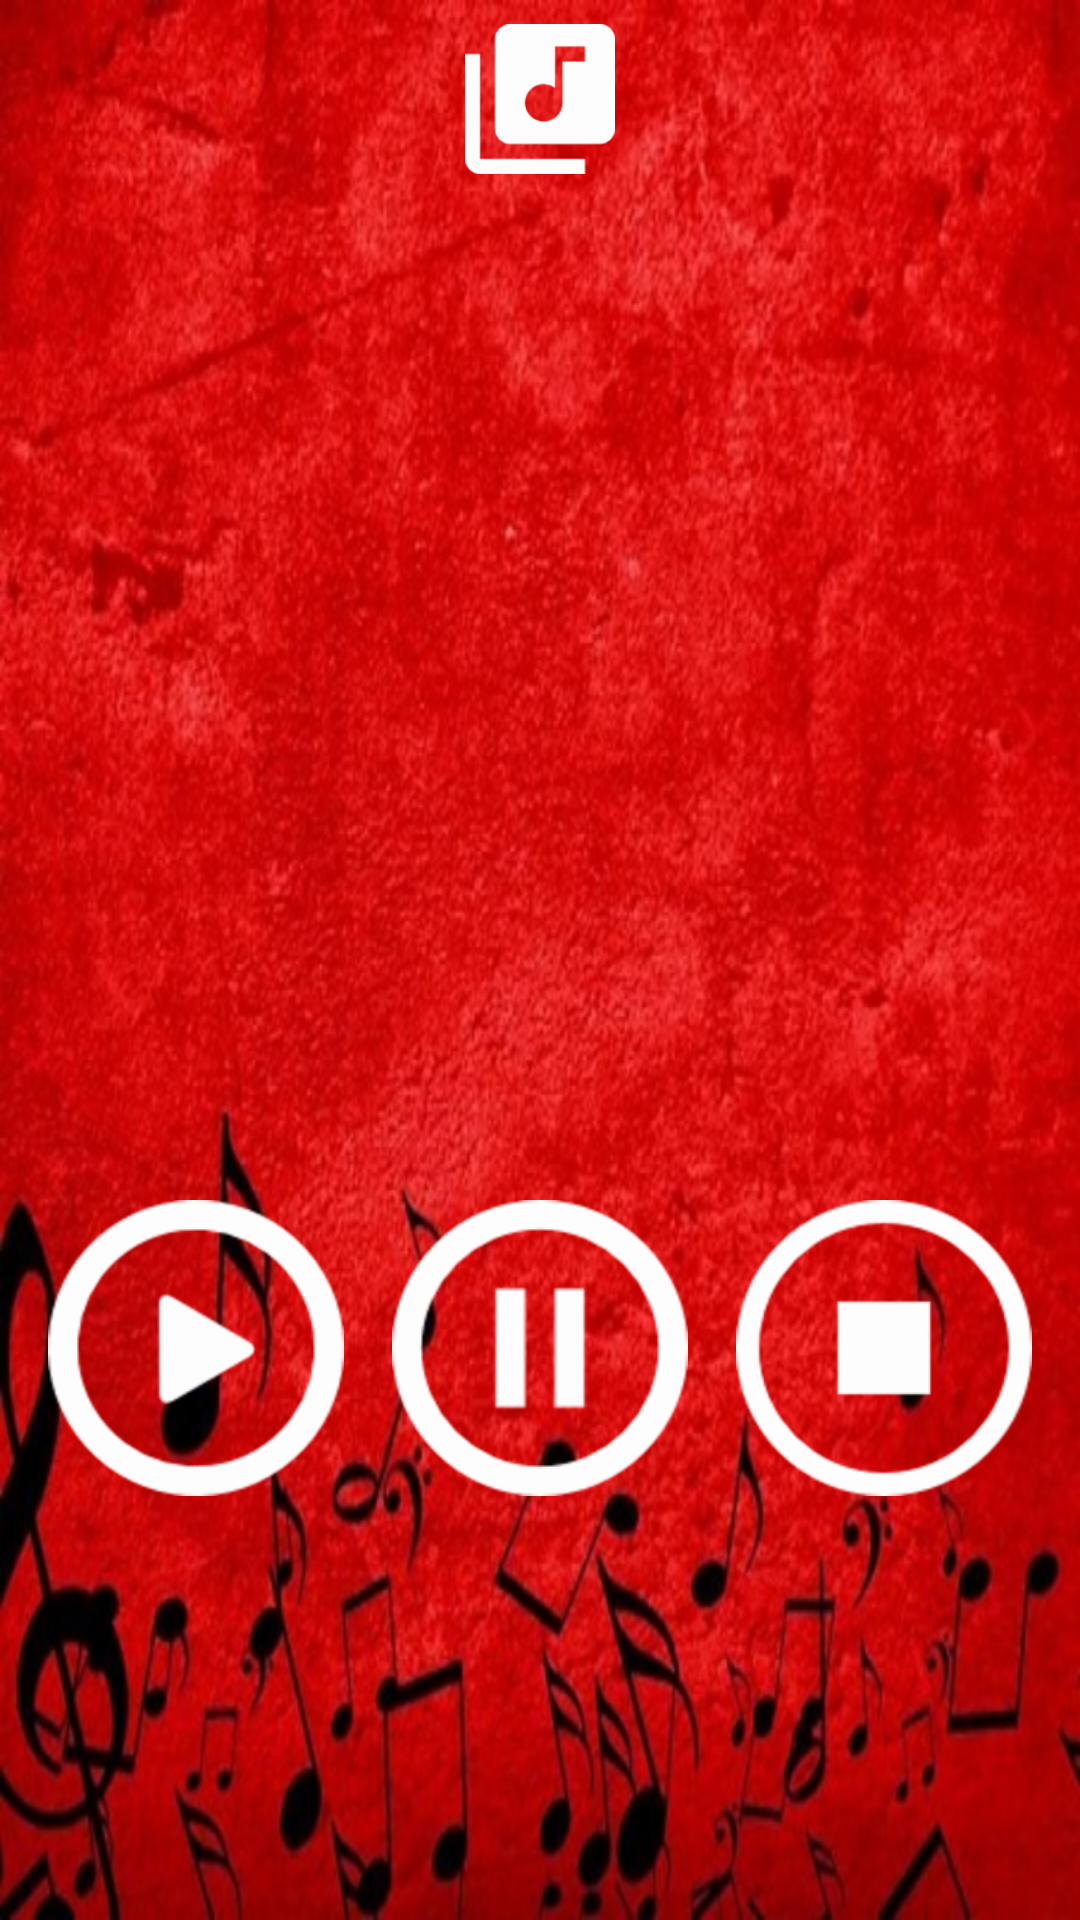

Screen size 1080×1920. Icon name, then its center in pixels as point (x, y):
Music Library button: point (548, 99)
Pause button: point (540, 1348)
Play button: point (196, 1348)
Stop button: point (884, 1348)
